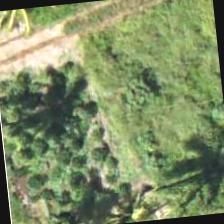Kelapa_Sawit: (0, 74, 62, 170)
